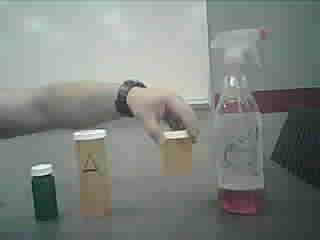Bottle A: (69, 125, 119, 227)
Bottle B: (154, 127, 202, 186)
Bottle C: (28, 159, 64, 227)
hazard: (206, 21, 284, 224)
